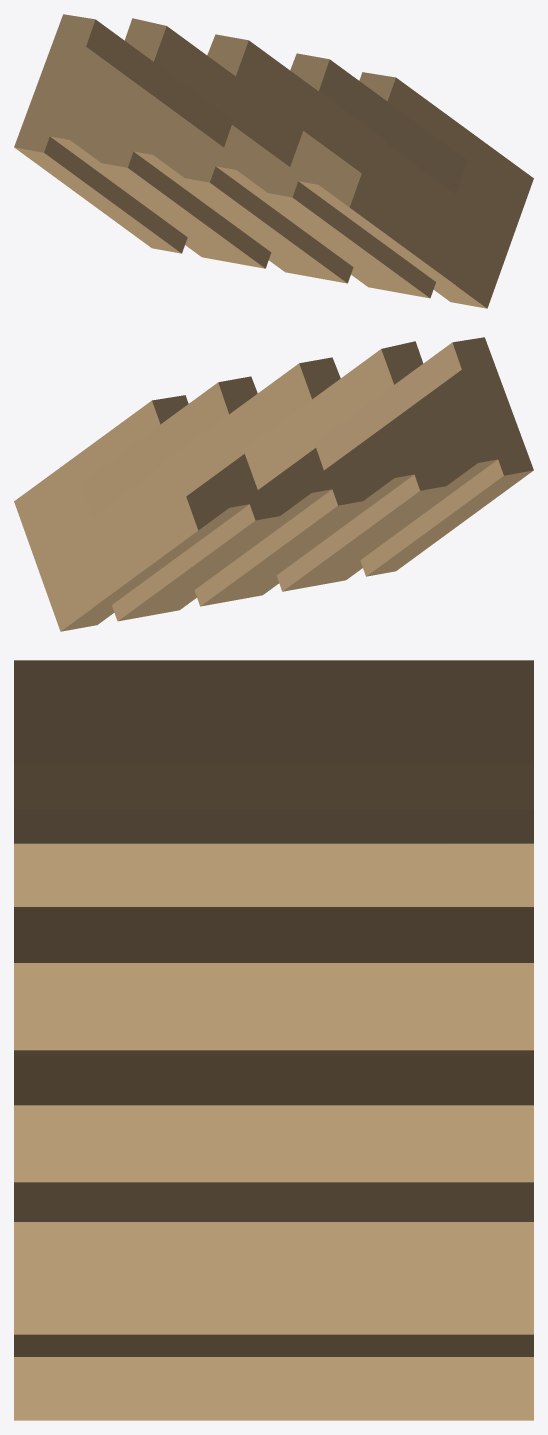
3 renders of one model, top to bottom at view 1: azimuth 30°, elevation 25°; view 2: azimuth 150°, elevation 25°; view 3: azimuth 270°, elevation 25°, orthographic. The views are drawn at different scales.
Parts seen in each view (by area): view 1: 0_0_3_1_3_2_0_1_2; view 2: 0_0_3_1_3_2_0_1_2; view 3: 0_0_3_1_3_2_0_1_2.
Boxes of the visible parts, left/top/right/bottom form: 0_0_3_1_3_2_0_1_2: left=14, top=14, right=533, bottom=308; 0_0_3_1_3_2_0_1_2: left=14, top=337, right=533, bottom=631; 0_0_3_1_3_2_0_1_2: left=14, top=660, right=533, bottom=1420.
Bounding box in the file's own units: 38.38 × 25.29 × 24.
